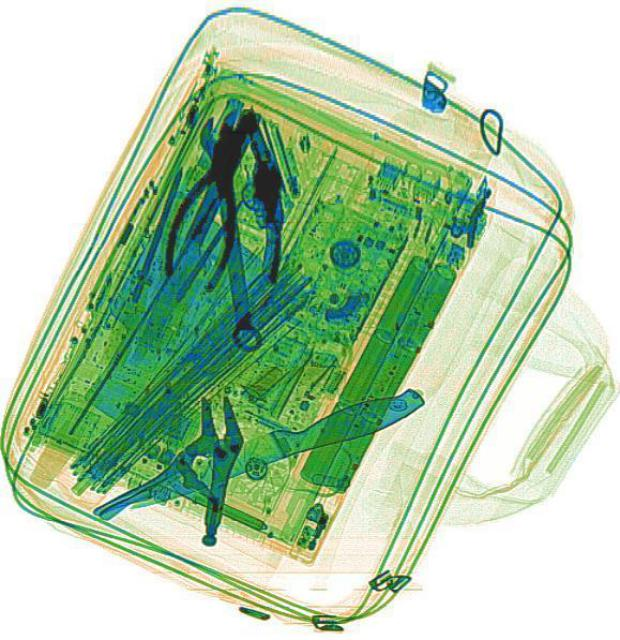Gun: (206, 102, 316, 282)
Knife: (120, 376, 427, 520), (124, 106, 273, 367)
Pliers: (154, 109, 263, 295)
Wrench: (195, 113, 270, 351)
